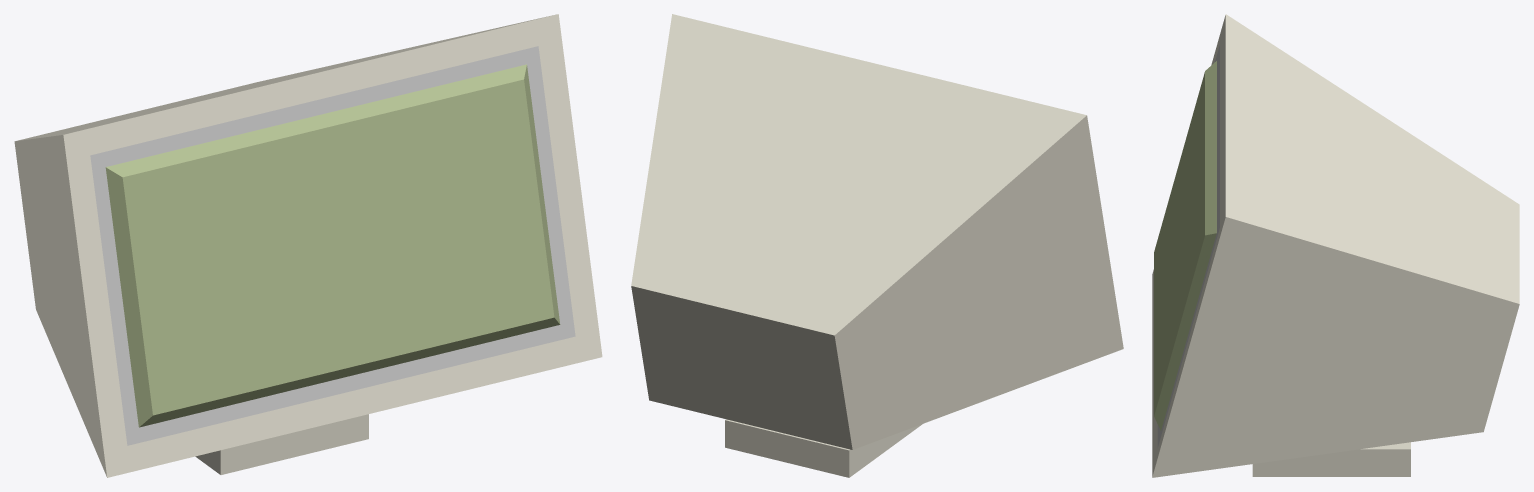
File: monitor.fbx
3 renders of one model, left to right at view 1: azimuth 30°, elevation 25°; view 2: azimuth 150°, elevation 25°; view 3: azimuth 270°, elevation 25°, orthographic. The views are drawn at different scales.
Visible parts, largest first — view 1: Cube_4; view 2: Cube_4; view 3: Cube_4.
Boxes of the visible parts, x1=… form: Cube_4: x1=14, y1=14, x2=602, y2=477; Cube_4: x1=631, y1=14, x2=1123, y2=477; Cube_4: x1=1152, y1=14, x2=1519, y2=477.
Size of the model in its own units: 22.51 by 17.13 by 17.24.
